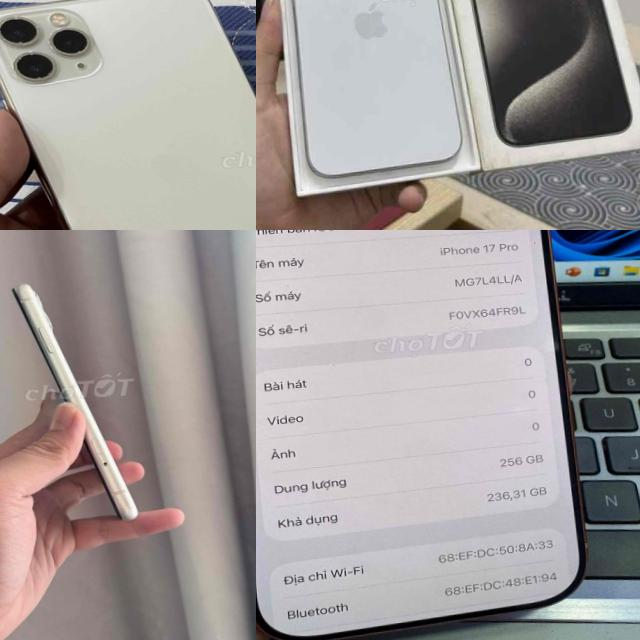gen_11: (0, 0, 256, 230), (14, 284, 137, 520)
gen_15: (273, 0, 470, 192)
gen_17: (256, 230, 605, 640)
